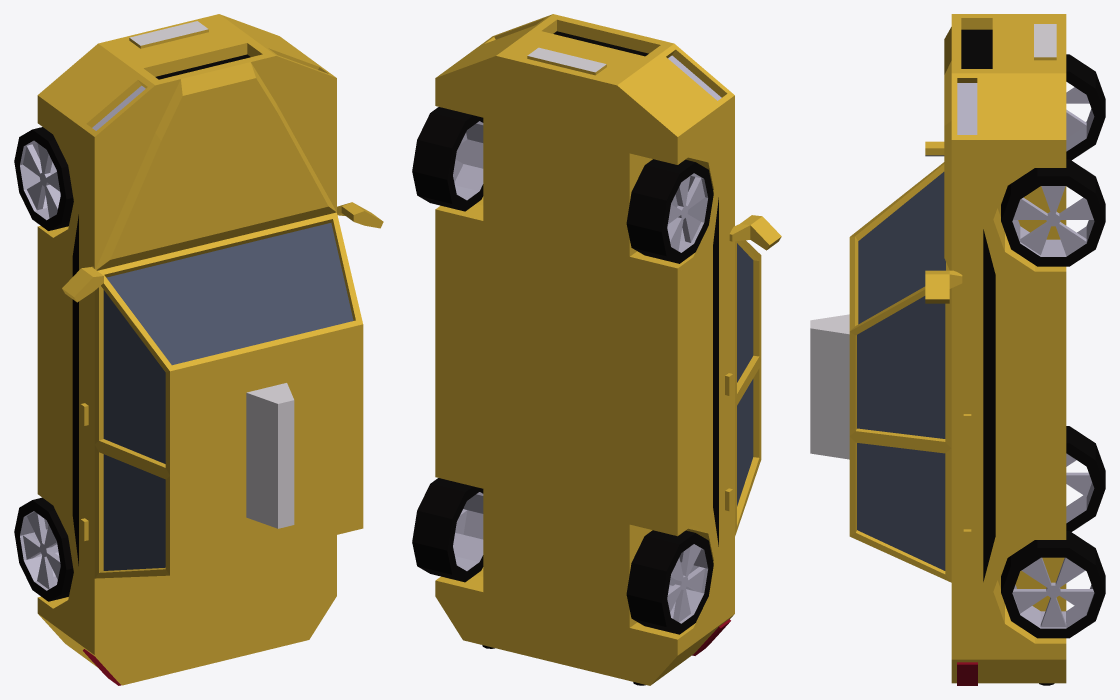
The model's file is Taxi.glb.
3 renders of one model, left to right at view 1: azimuth 30°, elevation 25°; view 2: azimuth 150°, elevation 25°; view 3: azimuth 270°, elevation 25°, orthographic.
Visible parts, largest first — view 1: Mesh_0; view 2: Mesh_0; view 3: Mesh_0.
Boxes of the visible parts, x1,y1,x2,y2 form: Mesh_0: (14,14,383,685); Mesh_0: (412,14,781,685); Mesh_0: (810,14,1105,685).
Size of the model in its own units: 2.81 by 5.23 by 2.32.
